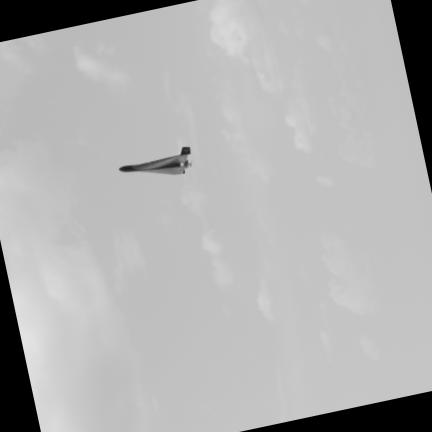Shahed: (119, 147, 190, 174)
